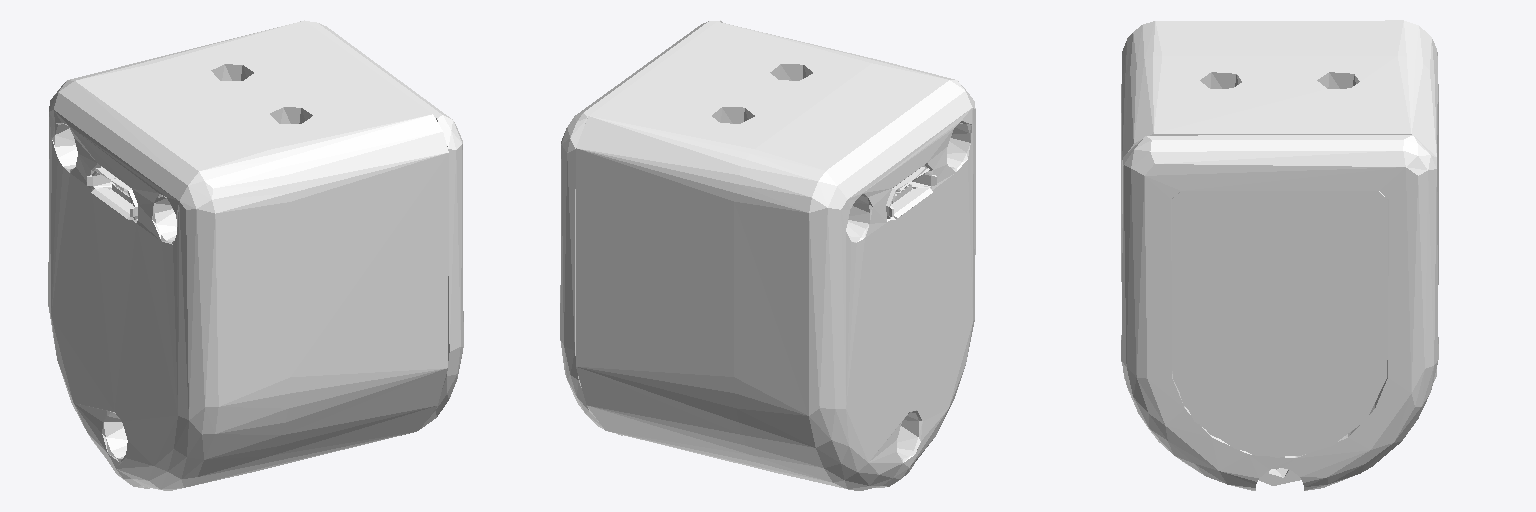
The robot description file, URDF, robot "digit":
<?xml version="1.0" ?>
<robot name="digit">
  <link concave="yes" name="baseLink">
    <inertial>
      <origin rpy="0 0 0" xyz="0 0 0"/>
       <mass value=".1"/>
       <inertia ixx="1" ixy="0" ixz="0" iyy="1" iyz="0" izz="1"/>
    </inertial>
    <visual>
      <origin rpy="0 0 0" xyz="0 0 0"/>
      <geometry>
				<mesh filename="digit_no_gel.stl" scale="1 1 1"/>
      </geometry>
       <material name="white">
        <color rgba="1 1 1 1"/>
      </material>
    </visual>
    <collision concave="yes">
      <origin rpy="0 0 0" xyz="0 0 0"/>
     <geometry>
				<mesh filename="digit_no_gel.stl" scale="1 1 1"/>
      </geometry>
    </collision>
  </link>
</robot>

--- Render facts (derived) ---
3 views of the same robot in one strip: view 1: azimuth 30°, elevation 25°; view 2: azimuth 150°, elevation 25°; view 3: azimuth 270°, elevation 25° (orthographic).
Robot: digit — 1 links, 0 joints (none); root link baseLink; default pose: every joint at zero.
Visible links, largest first — view 1: baseLink; view 2: baseLink; view 3: baseLink.
Link boxes in pixels (<box>): baseLink: <box>48,20,463,490</box>; baseLink: <box>560,20,975,490</box>; baseLink: <box>1121,20,1438,490</box>.
Size in the robot's own frame: 0.0282 by 0.027 by 0.034 metres.
1 mesh visuals loaded from 1 distinct referenced files (1 binary STL).